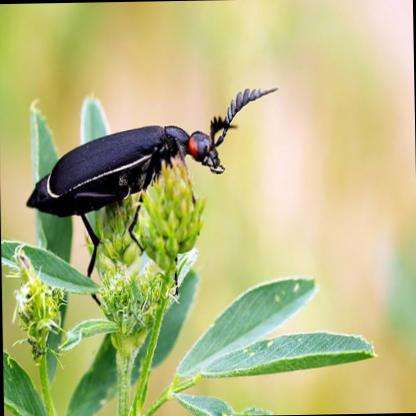blister beetle: (20, 89, 276, 245)
